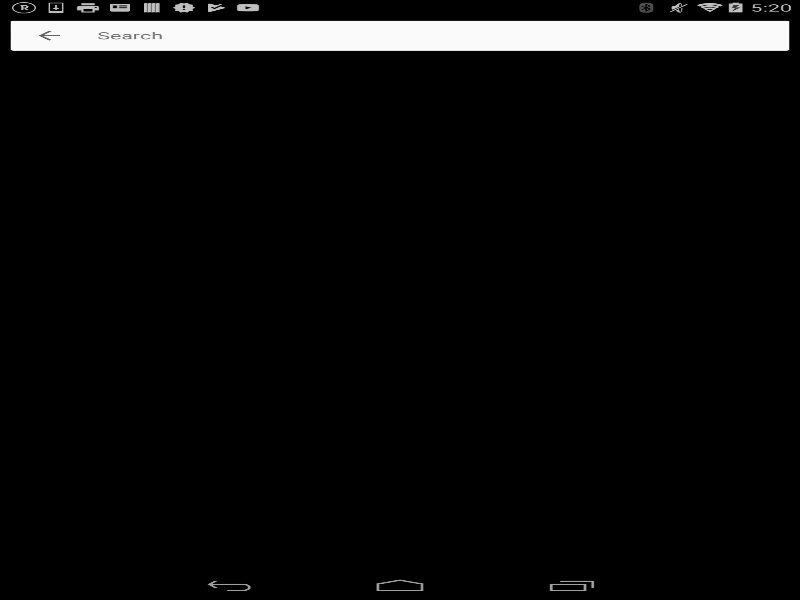Input: (97, 25, 734, 45)
